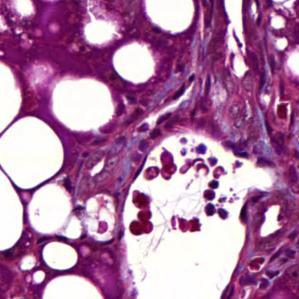steatosis: (52, 77, 116, 130), (26, 183, 74, 229), (44, 239, 81, 273)
